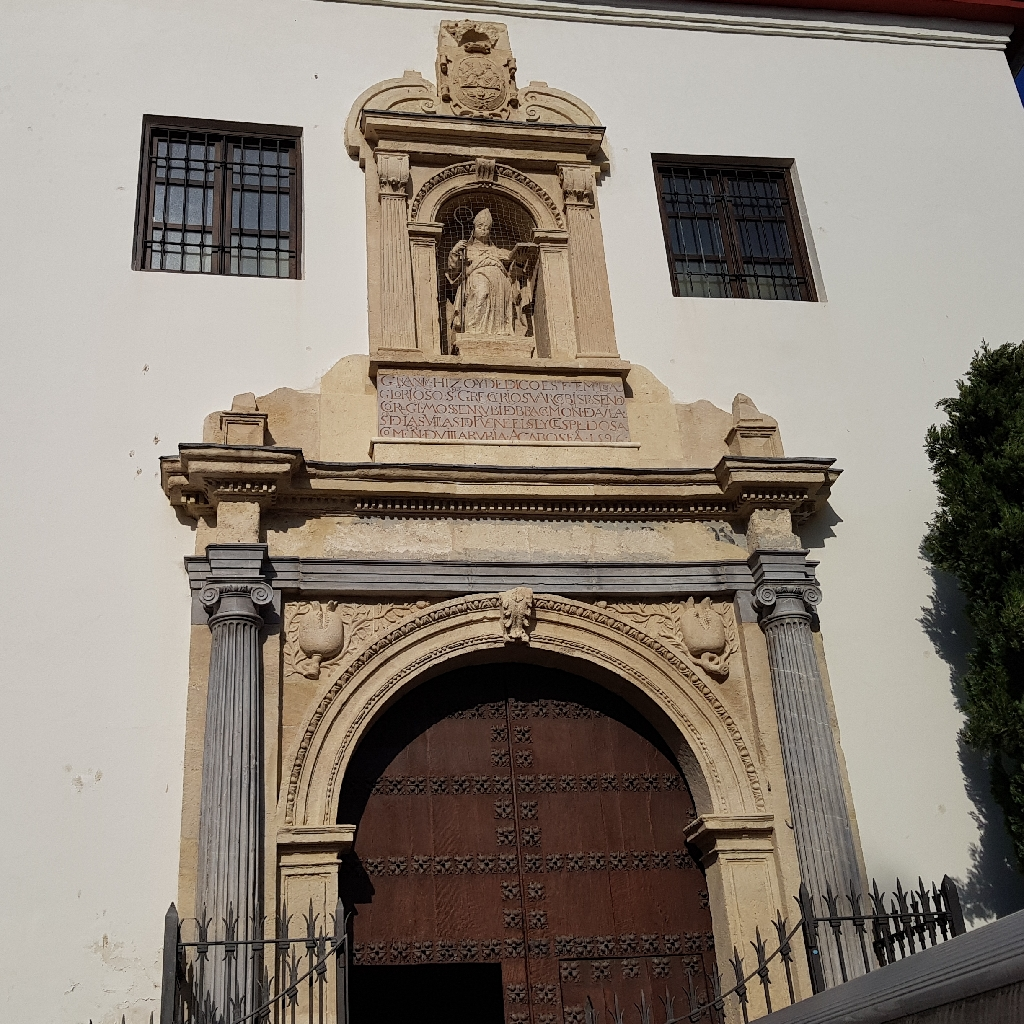arco-medio-punto: (318, 632, 749, 890), (427, 175, 552, 261)
fronton-partido: (360, 75, 608, 143)
